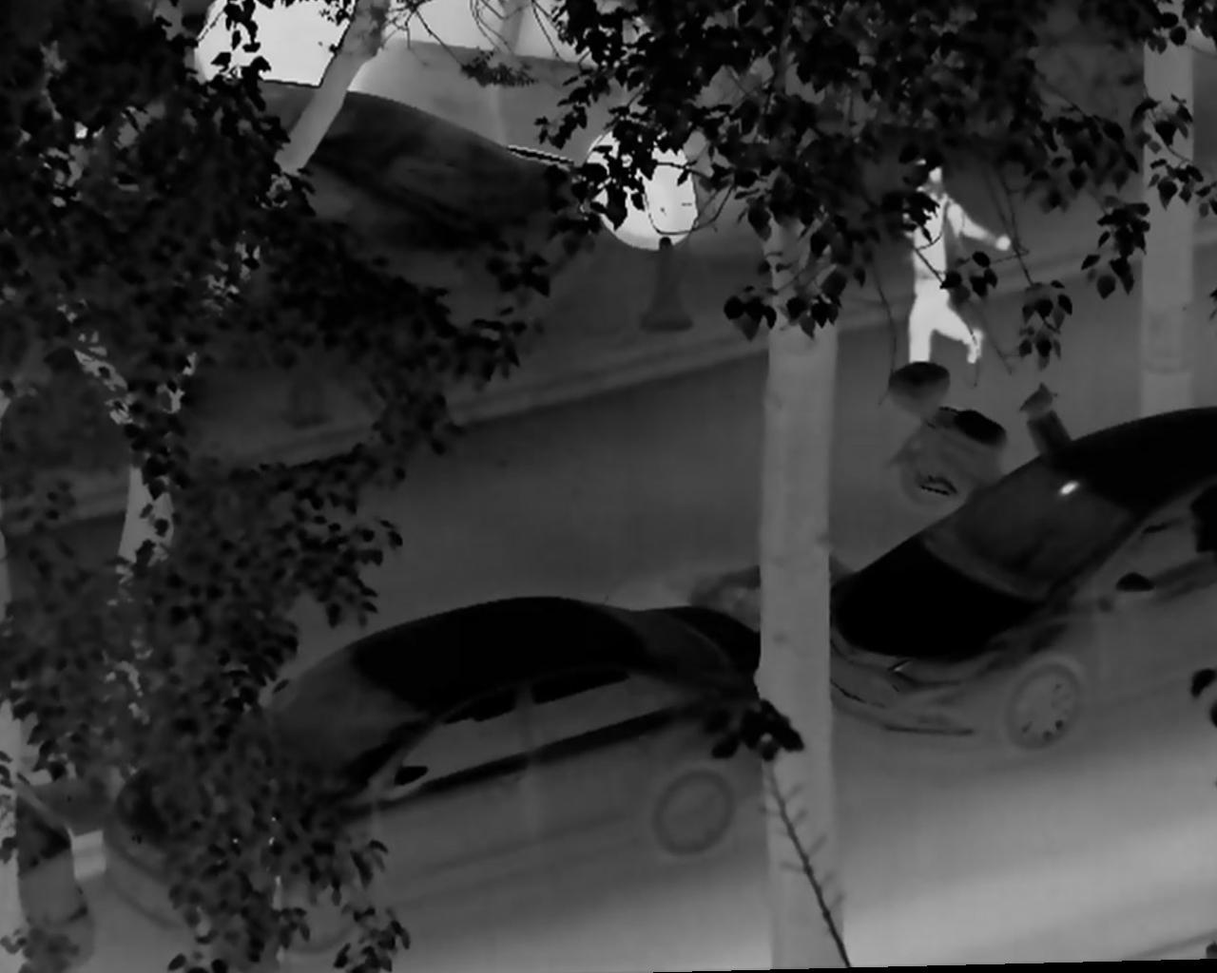person: (897, 154, 1013, 390)
